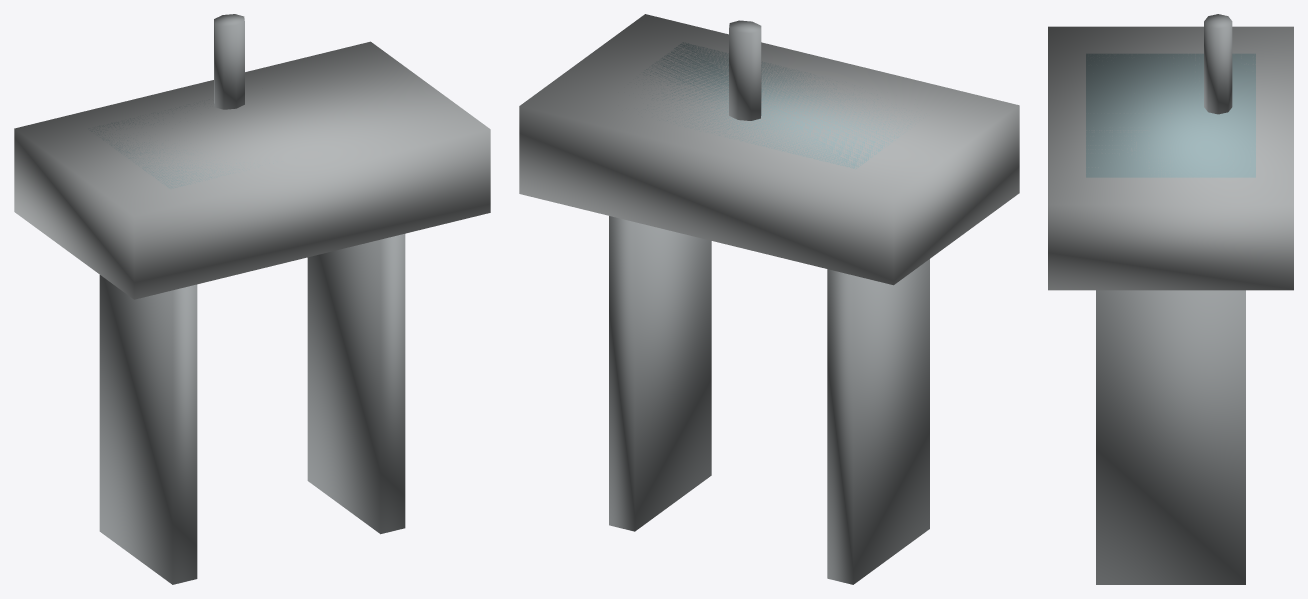
The model's file is bar_sink__wide.glb.
3 views of the same model, side by side, from view 1: azimuth 30°, elevation 25°; view 2: azimuth 150°, elevation 25°; view 3: azimuth 270°, elevation 25° (orthographic). The views are drawn at different scales.
Parts seen in each view (by area): view 1: world; view 2: world; view 3: world.
Boxes of the visible parts, <box> form: world: <box>14,14,490,584</box>; world: <box>519,14,1019,584</box>; world: <box>1048,14,1293,584</box>.
Bounding box in the file's own units: 0.8928 × 1.18 × 0.52.
